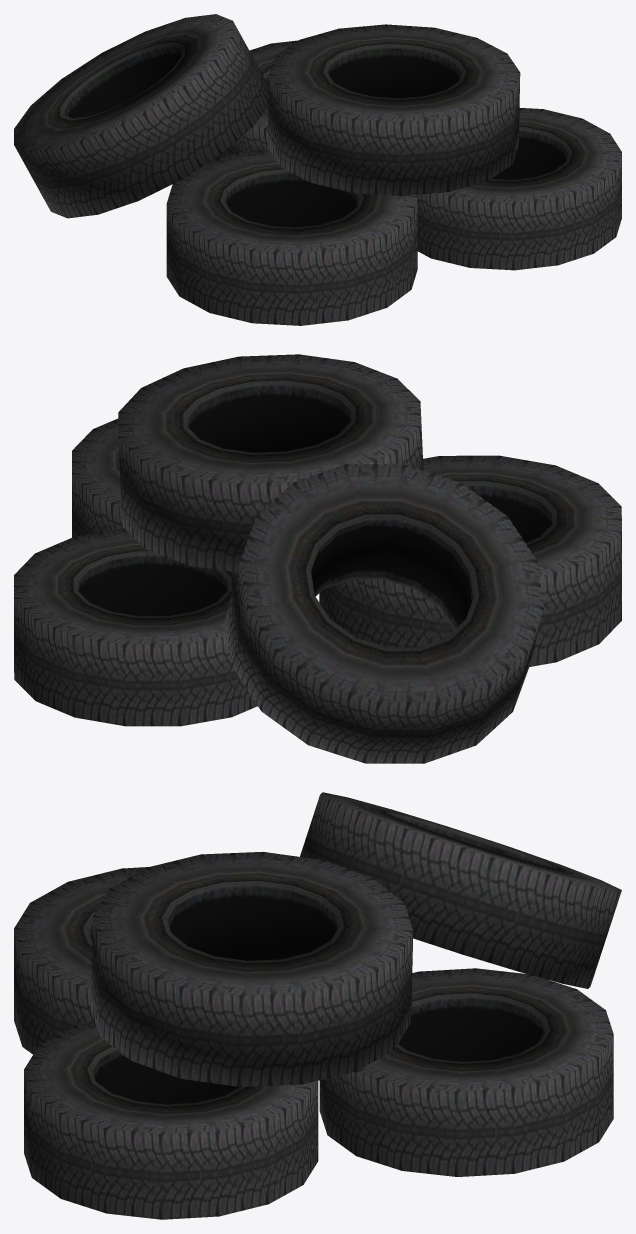
File: tire_five_pile.fbx
3 views of the same model, one above another, from view 1: azimuth 30°, elevation 25°; view 2: azimuth 150°, elevation 25°; view 3: azimuth 270°, elevation 25° (orthographic). The views are drawn at different scales.
Visible parts, largest first — view 1: mesh_0; view 2: mesh_0; view 3: mesh_0.
Part boxes in pixels (x1=…): mesh_0: x1=14, y1=14, x2=621, y2=325; mesh_0: x1=14, y1=354, x2=621, y2=763; mesh_0: x1=14, y1=792, x2=621, y2=1219.
Size of the model in its own units: 152 by 53.17 by 134.
Materials: 1 (1 with a texture image).
